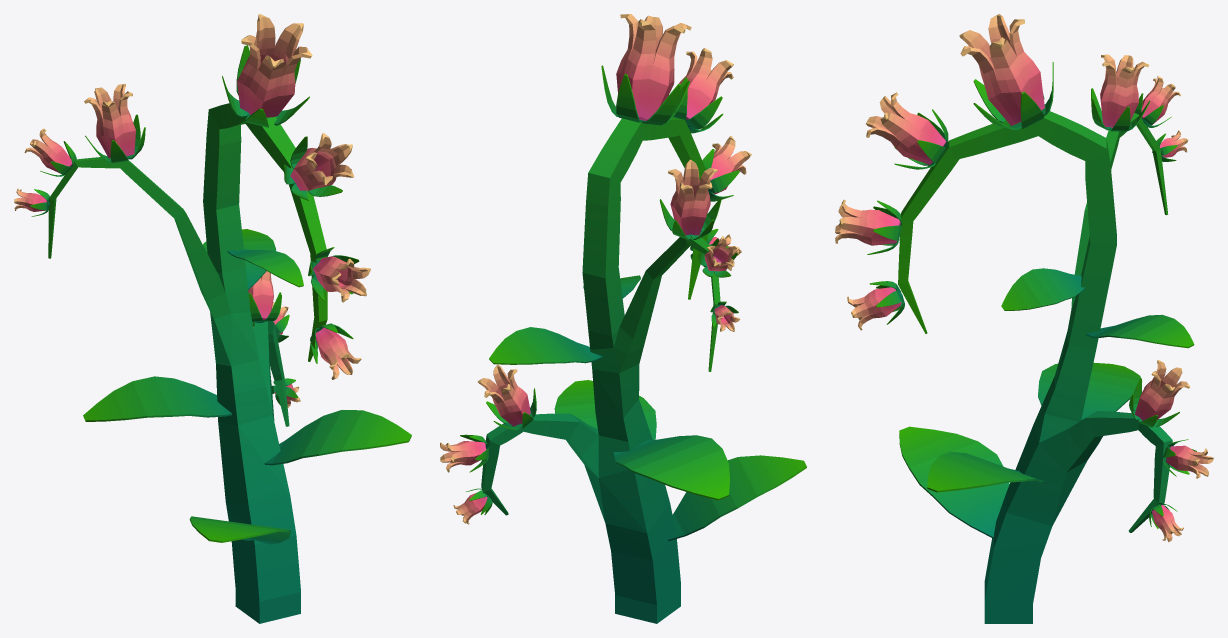
Rendered from EcheveriaGameReady.fbx.
3 renders of one model, left to right at view 1: azimuth 30°, elevation 25°; view 2: azimuth 150°, elevation 25°; view 3: azimuth 270°, elevation 25°, orthographic.
Visible parts, largest first — view 1: Stalk, Flower.001, Leaf.012, Leaf.014, Flower.008, Flower.002, Leaf.015, Flower.003, Leaf.016, Flower.004, Leaf.002, Leaf.013 (+4 smaller); view 2: Stalk, Leaf.012, Flower.001, Leaf.015, Leaf.013, Flower.008, Flower.002, Leaf.002, Leaf.014, Flower.005, Flower.003, Flower.006 (+4 smaller); view 3: Stalk, Leaf.015, Flower.001, Leaf.014, Flower.002, Leaf.012, Leaf.016, Flower.008, Leaf.013, Flower.003, Flower.005, Leaf.002 (+9 smaller).
Boxes of the visible parts, bbox=[...] form: Stalk: bbox=[48, 103, 327, 623]; Flower.001: bbox=[237, 14, 312, 117]; Leaf.012: bbox=[83, 376, 231, 421]; Leaf.014: bbox=[264, 410, 411, 465]; Flower.008: bbox=[84, 84, 135, 158]; Flower.002: bbox=[290, 133, 354, 190]; Leaf.015: bbox=[189, 516, 290, 544]; Flower.003: bbox=[313, 256, 370, 302]; Leaf.016: bbox=[227, 249, 303, 287]; Flower.004: bbox=[315, 327, 361, 379]; Leaf.002: bbox=[222, 45, 309, 127]; Leaf.013: bbox=[203, 229, 275, 289]; Stalk: bbox=[481, 117, 720, 623]; Leaf.012: bbox=[613, 435, 729, 500]; Flower.001: bbox=[616, 14, 691, 120]; Leaf.015: bbox=[668, 455, 806, 541]; Leaf.013: bbox=[489, 327, 602, 364]; Flower.008: bbox=[668, 159, 717, 235]; Flower.002: bbox=[678, 48, 733, 119]; Leaf.002: bbox=[601, 65, 689, 125]; Leaf.014: bbox=[554, 380, 656, 439]; Flower.005: bbox=[477, 364, 530, 426]; Flower.003: bbox=[710, 136, 751, 194]; Flower.006: bbox=[440, 441, 486, 472]; Stalk: bbox=[898, 111, 1172, 623]; Leaf.015: bbox=[899, 426, 1009, 538]; Flower.001: bbox=[959, 14, 1044, 125]; Leaf.014: bbox=[927, 451, 1045, 492]; Flower.002: bbox=[865, 92, 946, 164]; Leaf.012: bbox=[1038, 362, 1142, 419]; Leaf.016: bbox=[1001, 268, 1085, 310]; Flower.008: bbox=[1100, 54, 1148, 127]; Leaf.013: bbox=[1086, 314, 1194, 348]; Flower.003: bbox=[835, 199, 900, 245]; Flower.005: bbox=[1134, 360, 1190, 420]; Leaf.002: bbox=[973, 62, 1053, 130].
Size of the model in its own units: 89.96 by 177 by 102.
